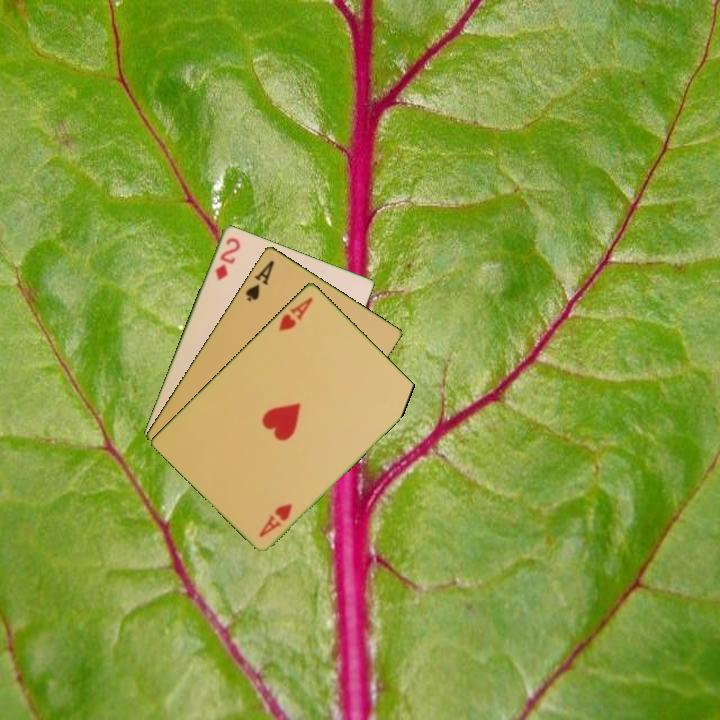2d: (211, 234, 243, 283)
Ah: (275, 293, 316, 334), (255, 499, 295, 540)
As: (242, 256, 277, 304)
